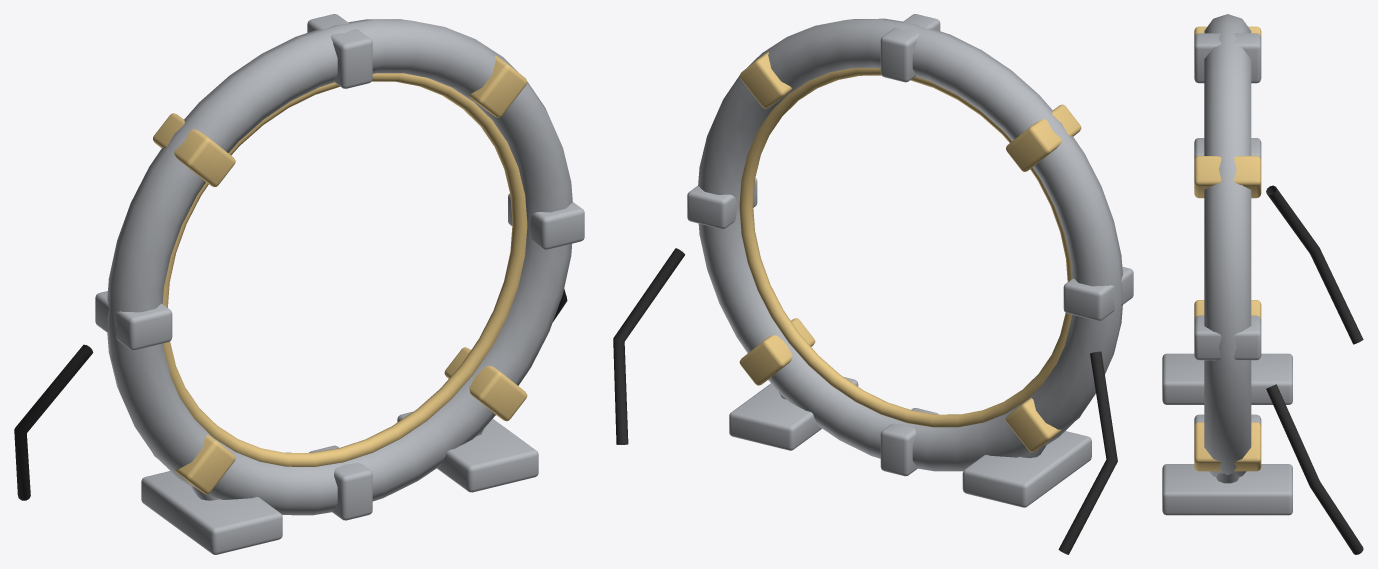
File: ring.glb
3 views of the same model, side by side, from view 1: azimuth 30°, elevation 25°; view 2: azimuth 150°, elevation 25°; view 3: azimuth 270°, elevation 25° (orthographic). The views are drawn at different scales.
Parts seen in each view (by area): view 1: ring, inner, foot-1, foot1, clamp3, clamp4, clamp2, cable-1, clamp7, clamp0, clamp6, clamp5 (+1 smaller); view 2: ring, inner, foot-1, foot1, cable1, cable-1, clamp3, clamp4, clamp2, clamp7, clamp0, clamp6 (+2 smaller); view 3: ring, foot1, foot-1, cable1, cable-1, clamp0, clamp1, clamp2, clamp7, clamp4, clamp5.
Boxes of the visible parts, x1,y1,x2,y2 form: ring: (107,19,572,515); inner: (162,73,527,466); foot-1: (141,471,282,554); foot1: (397,412,538,492); clamp3: (153,113,235,186); clamp4: (95,291,172,350); clamp2: (307,14,372,88); cable-1: (14,344,93,500); clamp7: (444,347,527,421); clamp0: (508,193,584,249); clamp6: (309,445,372,520); clamp5: (153,434,235,494); ring: (698,18,1122,471); inner: (739,68,1072,427); foot-1: (962,431,1091,507); foot1: (729,377,858,450); cable1: (613,248,684,444); cable-1: (1058,351,1117,554); clamp3: (1006,104,1081,171); clamp4: (1063,266,1133,320); clamp2: (880,14,940,82); clamp7: (739,318,815,385); clamp0: (687,178,757,228); clamp6: (880,408,938,476); ring: (1204,14,1251,476); foot1: (1162,464,1292,515); foot-1: (1162,353,1292,404); cable1: (1266,384,1363,554); cable-1: (1266,185,1363,344); clamp0: (1194,315,1261,360); clamp1: (1194,156,1261,198); clamp2: (1194,33,1261,83); clamp7: (1194,422,1261,471); clamp4: (1194,138,1261,159); clamp5: (1194,300,1261,319).
Bounding box in the file's own units: 3.88 × 3.24 × 1.39.
